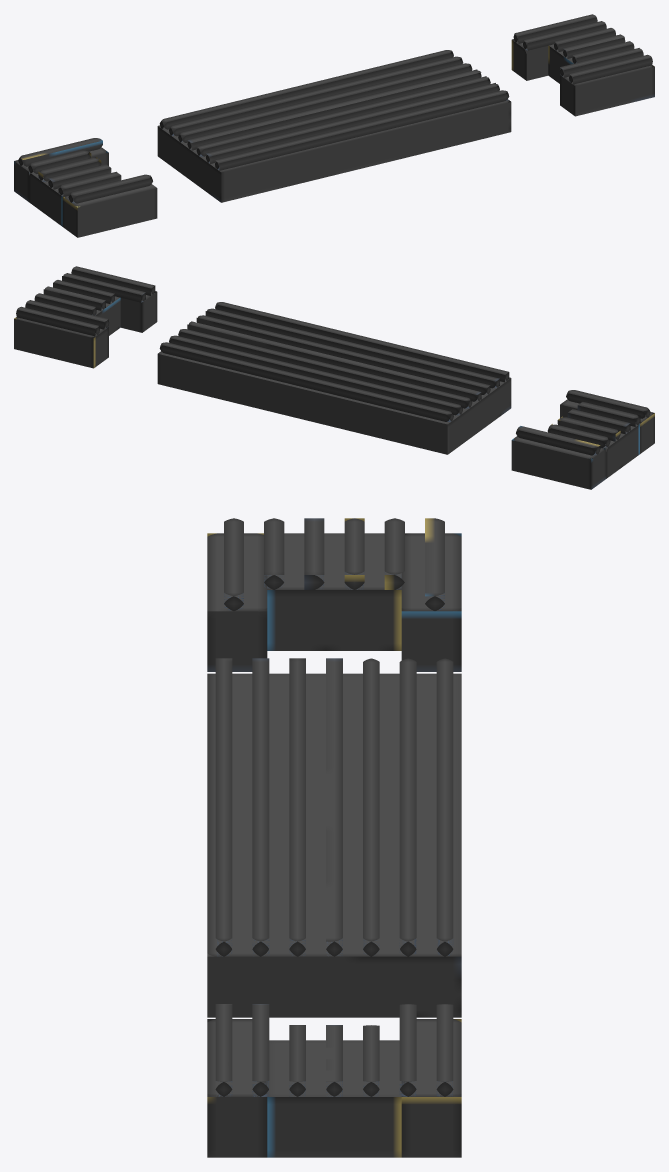
File: noise_dampener.obj
3 renders of one model, top to bottom at view 1: azimuth 30°, elevation 25°; view 2: azimuth 150°, elevation 25°; view 3: azimuth 270°, elevation 25°, orthographic. The views are drawn at different scales.
Visible parts, largest first — view 1: cube; view 2: cube; view 3: cube.
Boxes of the visible parts, bbox=[...] form: cube: bbox=[14, 14, 654, 237]; cube: bbox=[14, 266, 654, 489]; cube: bbox=[207, 518, 461, 1157].
Bounding box in the file's own units: 2.49 × 0.1562 × 0.475.
Materials: 1 (1 with a texture image).
